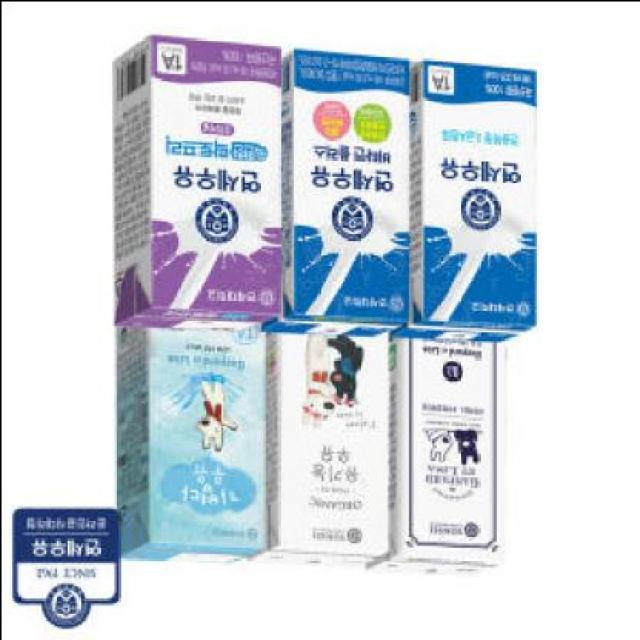tetra: (86, 7, 280, 365), (378, 51, 556, 351), (255, 48, 414, 361), (228, 332, 398, 596), (357, 338, 517, 600), (117, 332, 283, 582)
